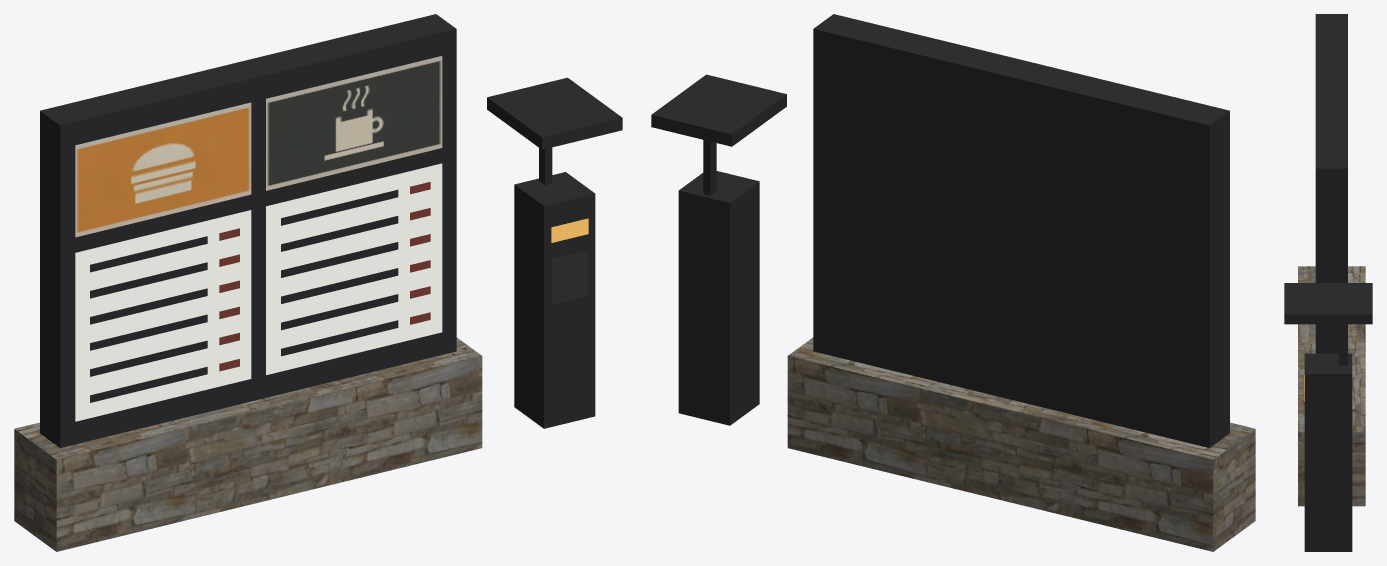
Rendered from town_menu_board 2.gltf.
3 views of the same model, side by side, from view 1: azimuth 30°, elevation 25°; view 2: azimuth 150°, elevation 25°; view 3: azimuth 270°, elevation 25° (orthographic). The views are drawn at different scales.
Parts seen in each view (by area): view 1: TownMenuBoard_Panels_Glow, TownMenuBoard_Board, TownMenuBoard_Base, TownMenuBoard_Speaker, TownMenuBoard_Rows; view 2: TownMenuBoard_Board, TownMenuBoard_Base, TownMenuBoard_Speaker; view 3: TownMenuBoard_Speaker, TownMenuBoard_Board, TownMenuBoard_Base.
Part boxes in pixels (bbox=[...]): TownMenuBoard_Panels_Glow: bbox=[75, 56, 442, 421]; TownMenuBoard_Board: bbox=[40, 14, 456, 447]; TownMenuBoard_Base: bbox=[14, 337, 482, 551]; TownMenuBoard_Speaker: bbox=[487, 77, 622, 428]; TownMenuBoard_Rows: bbox=[90, 182, 430, 402]; TownMenuBoard_Board: bbox=[813, 14, 1229, 447]; TownMenuBoard_Base: bbox=[787, 337, 1255, 551]; TownMenuBoard_Speaker: bbox=[651, 74, 786, 425]; TownMenuBoard_Speaker: bbox=[1284, 283, 1372, 551]; TownMenuBoard_Board: bbox=[1315, 14, 1347, 353]; TownMenuBoard_Base: bbox=[1298, 266, 1365, 506].
Size of what is drawn, in the model's own units: 3.8 by 2.7 by 0.65.
Materials: 2 (2 with a texture image).
